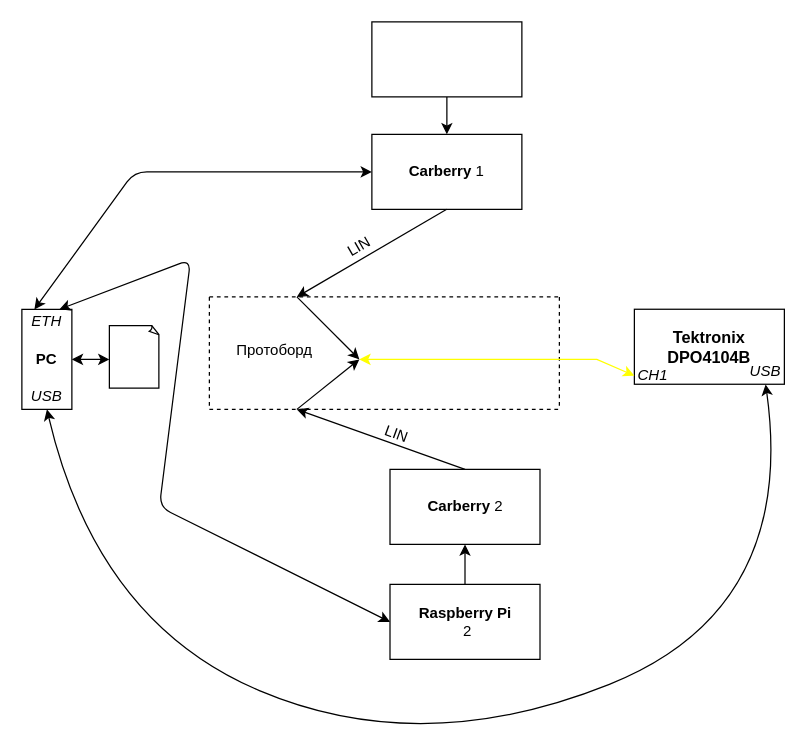
Image size: 806x746. Some labels were removed from this diagram. The centre of each missing label's shape, as x and y in pixels:
"main.py" goes at pixel 133 356.
"Raspberry Pi 1" goes at pixel 446 59.
